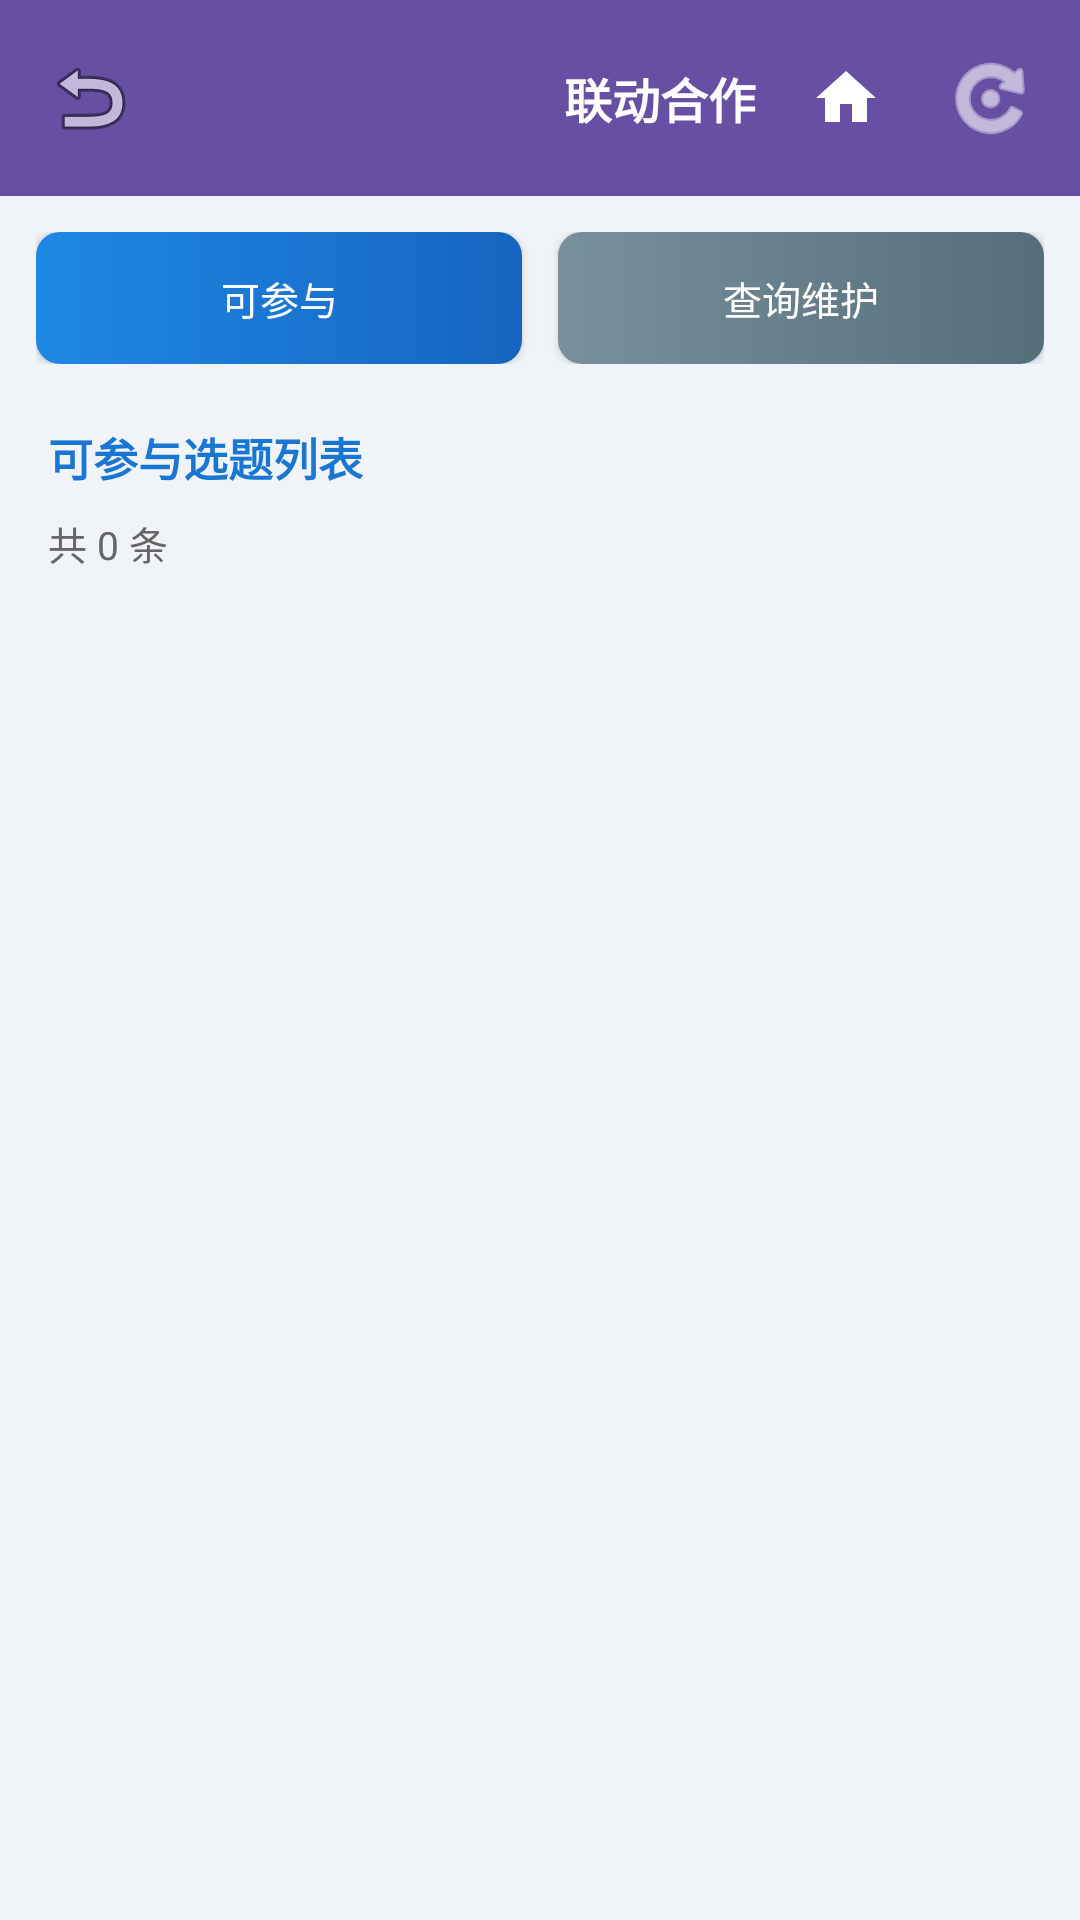

Named icons in this screenshot (1080px×1920px) and their centers, point (x, y):
主页面: point (846, 96)
刷新: point (990, 98)
返回: point (91, 98)
